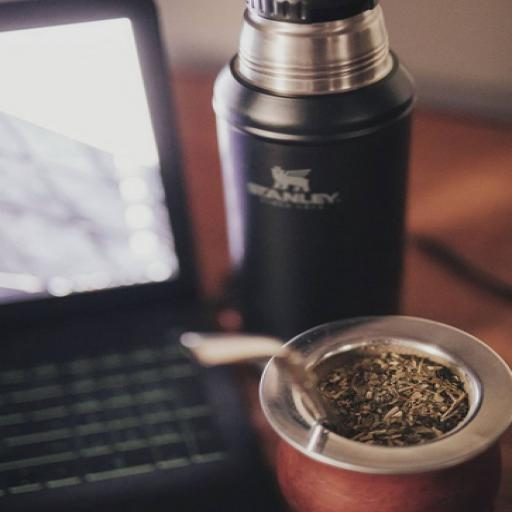mate: (187, 316, 512, 508)
termo: (203, 0, 416, 295)
